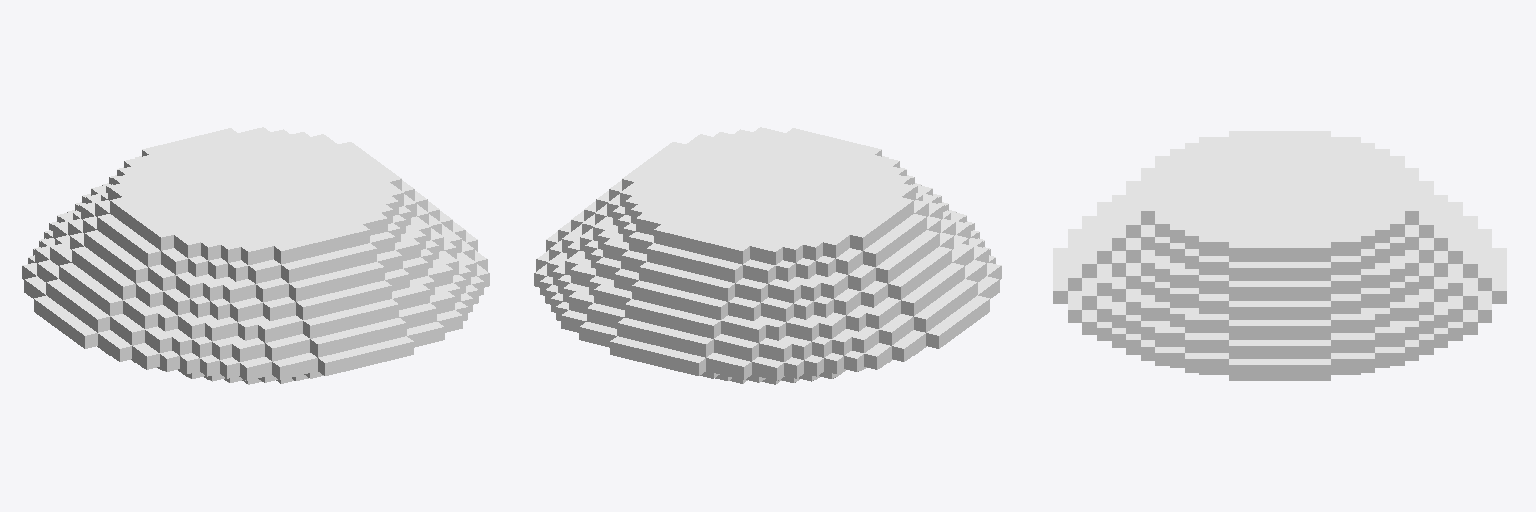
The model's file is Baiter.obj.
The picture shows the model from 3 angles: view 1: azimuth 30°, elevation 25°; view 2: azimuth 150°, elevation 25°; view 3: azimuth 270°, elevation 25°; orthographic projection.
Visible parts, largest first — view 1: object 1; view 2: object 1; view 3: object 1.
Boxes of the visible parts, x1=… form: object 1: x1=22, y1=127, x2=489, y2=384; object 1: x1=534, y1=127, x2=1001, y2=384; object 1: x1=1053, y1=131, x2=1506, y2=380.
Size of the model in its own units: 31 by 10 by 31.